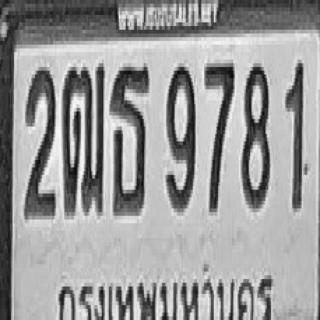A18: (62, 62, 104, 214)
A24: (110, 63, 149, 216)
N01: (285, 60, 303, 208)
N02: (24, 65, 56, 218)
N07: (205, 59, 234, 212)
N08: (242, 62, 270, 206)
N09: (166, 63, 195, 212)
